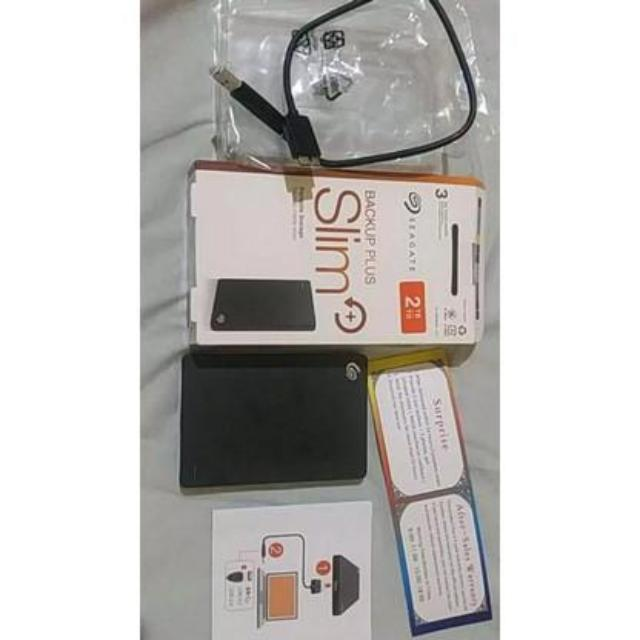DISK: (172, 337, 372, 500)
